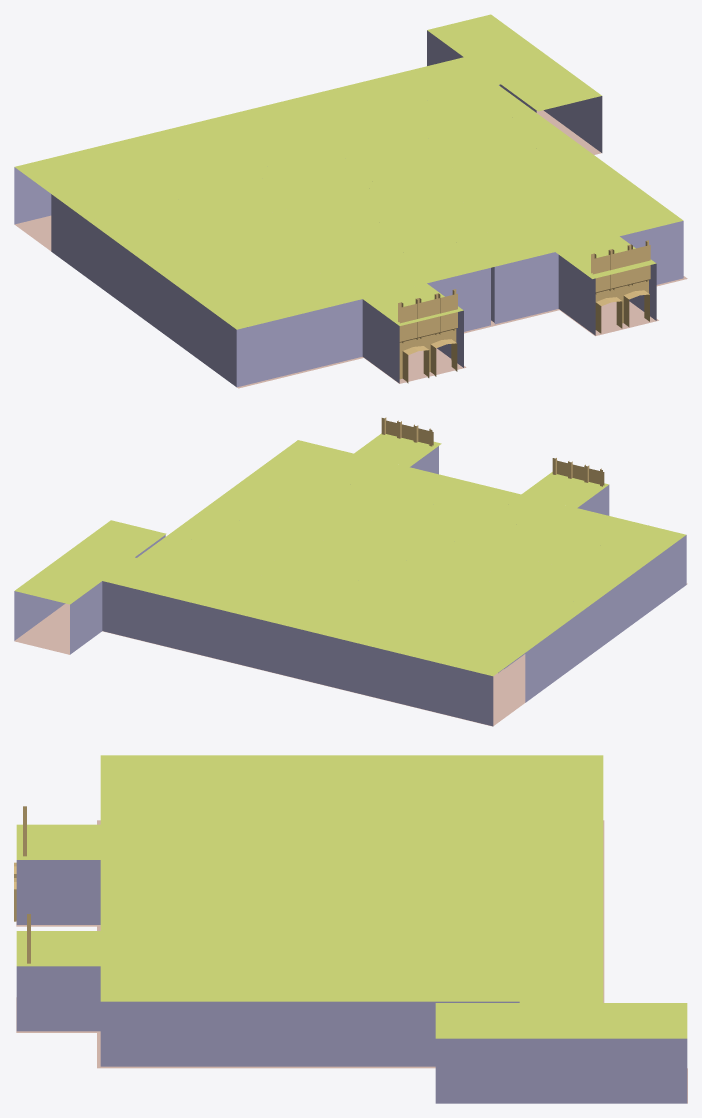
File: Archi_Museum_MESH.fbx
3 views of the same model, one above another, from view 1: azimuth 30°, elevation 25°; view 2: azimuth 150°, elevation 25°; view 3: azimuth 270°, elevation 25° (orthographic). The views are drawn at different scales.
Parts seen in each view (by area): view 1: Archi_Annexes_Plafond, Archi_Annexes_Murs, Archi_Portes_02, Archi_Annexes_Sol; view 2: Archi_Annexes_Plafond, Archi_Annexes_Murs, Archi_Annexes_Sol, Archi_Portes_02; view 3: Archi_Annexes_Plafond, Archi_Annexes_Murs, Archi_Annexes_Sol, Archi_Portes_02.
Part boxes in pixels (x1,y1,x2,y2): Archi_Annexes_Plafond: (15,14,683,329); Archi_Annexes_Murs: (14,30,683,387); Archi_Portes_02: (398,240,650,383); Archi_Annexes_Sol: (14,110,687,388); Archi_Annexes_Plafond: (15,433,686,676); Archi_Annexes_Murs: (14,446,686,726); Archi_Annexes_Sol: (14,583,687,726); Archi_Portes_02: (381,417,604,486); Archi_Annexes_Plafond: (16,755,687,1038); Archi_Annexes_Murs: (16,860,687,1103); Archi_Annexes_Sol: (16,820,687,1103); Archi_Portes_02: (14,806,30,963).
Size of the model in its own units: 4728 by 683 by 4753.
